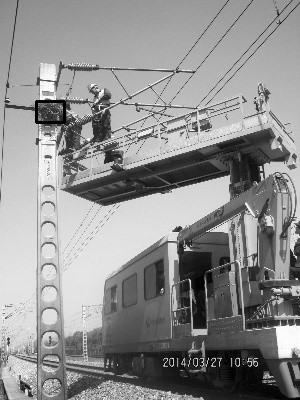bird-nest: (36, 101, 64, 122)
